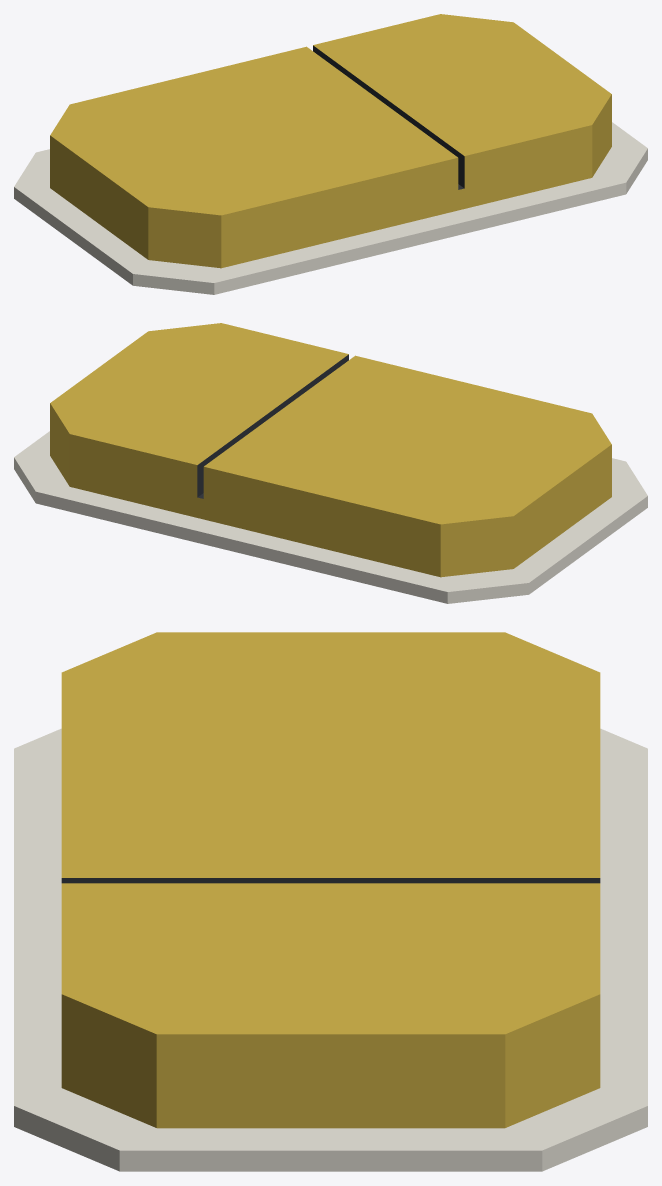
File: butter_pat.glb
3 renders of one model, top to bottom at view 1: azimuth 30°, elevation 25°; view 2: azimuth 150°, elevation 25°; view 3: azimuth 270°, elevation 25°, orthographic. The views are drawn at different scales.
Visible parts, largest first — view 1: butter_pat; view 2: butter_pat; view 3: butter_pat.
Boxes of the visible parts, <box> form: butter_pat: <box>14,14,647,294</box>; butter_pat: <box>14,323,647,603</box>; butter_pat: <box>14,632,647,1171</box>.
Bounding box in the file's own units: 0.1 × 0.012 × 0.06.
